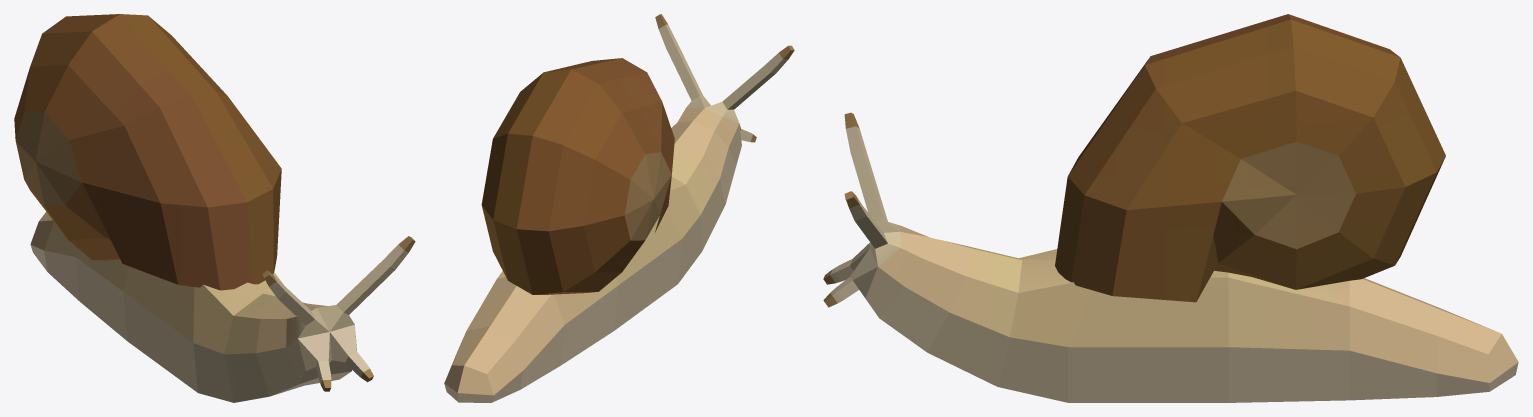
Rendered from Snail.glb.
The picture shows the model from 3 angles, left to right: view 1: azimuth 30°, elevation 25°; view 2: azimuth 150°, elevation 25°; view 3: azimuth 270°, elevation 25°; orthographic projection. The views are drawn at different scales.
Visible parts, largest first — view 1: Geo_Snail; view 2: Geo_Snail; view 3: Geo_Snail.
Part boxes in pixels (left/top/right/bottom): Geo_Snail: left=14, top=14, right=415, bottom=402; Geo_Snail: left=444, top=14, right=794, bottom=402; Geo_Snail: left=823, top=14, right=1518, bottom=402.
Bounding box in the file's own units: 2.51 × 3.86 × 7.04.
Materials: 1 (1 with a texture image).
